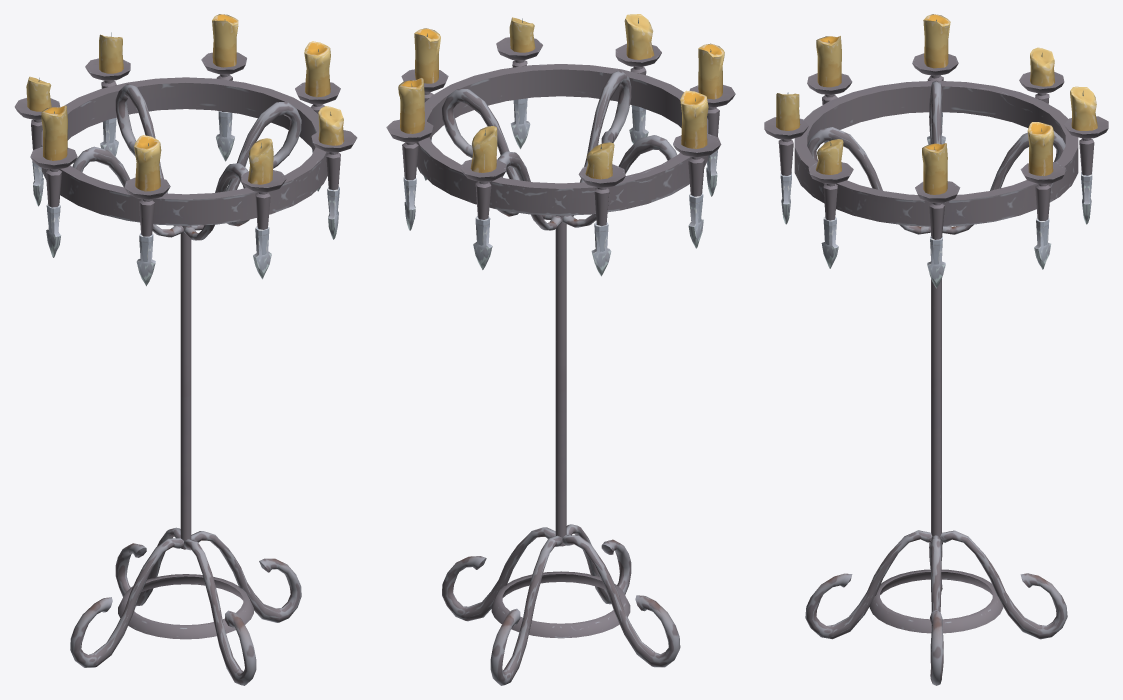
Rendered from CandleStick_Stand.fbx.
3 views of the same model, side by side, from view 1: azimuth 30°, elevation 25°; view 2: azimuth 150°, elevation 25°; view 3: azimuth 270°, elevation 25° (orthographic). The views are drawn at different scales.
Visible parts, largest first — view 1: CandleStick_Stand; view 2: CandleStick_Stand; view 3: CandleStick_Stand.
Boxes of the visible parts, x1=… form: CandleStick_Stand: x1=14, y1=14, x2=357, y2=685; CandleStick_Stand: x1=386, y1=14, x2=735, y2=685; CandleStick_Stand: x1=764, y1=14, x2=1108, y2=685.
Bounding box in the file's own units: 73.23 × 131 × 73.13.
